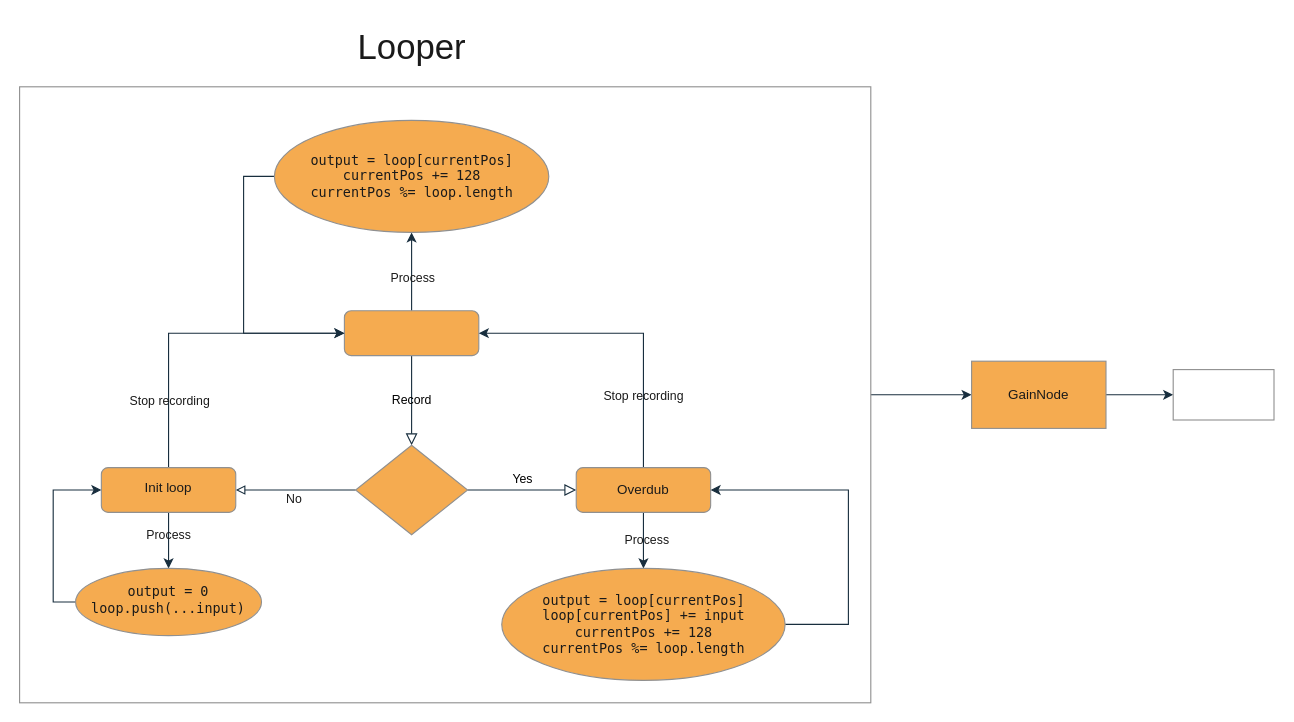
Some shapes in this 1294 by 722 pixel diagram are drawn without their labels. Here are the shapes that lost their labels. From the top down, the centre of each, then its label:
At (411,333): "Standby".
At (1223,394): "Output".
At (411,489): "Has defined loop?".
